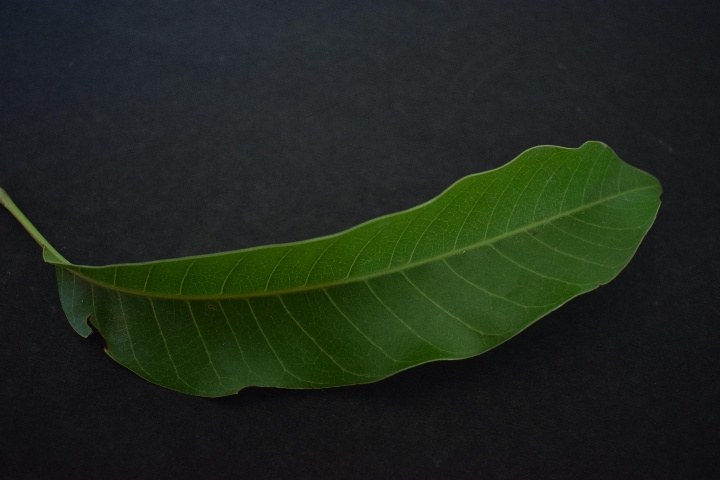healthy: (19, 140, 676, 390)
